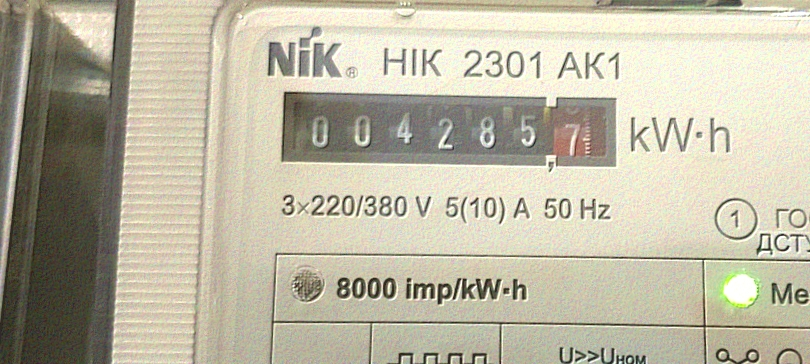0: (351, 111, 374, 149), (309, 112, 331, 149)
2: (435, 115, 456, 151)
4: (396, 109, 414, 145)
5: (517, 111, 539, 148)
7: (561, 120, 582, 157)
8: (476, 113, 498, 150)
screen: (266, 74, 634, 187)
